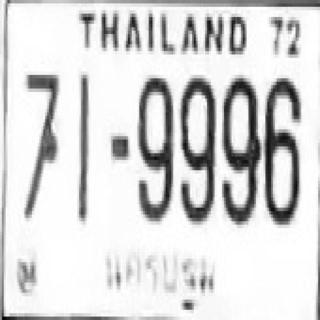N01: (76, 70, 89, 220)
N06: (264, 75, 299, 221)
N07: (23, 68, 58, 218)
N09: (220, 75, 260, 221), (179, 75, 215, 221), (136, 73, 171, 220)
P28: (100, 240, 216, 314)
